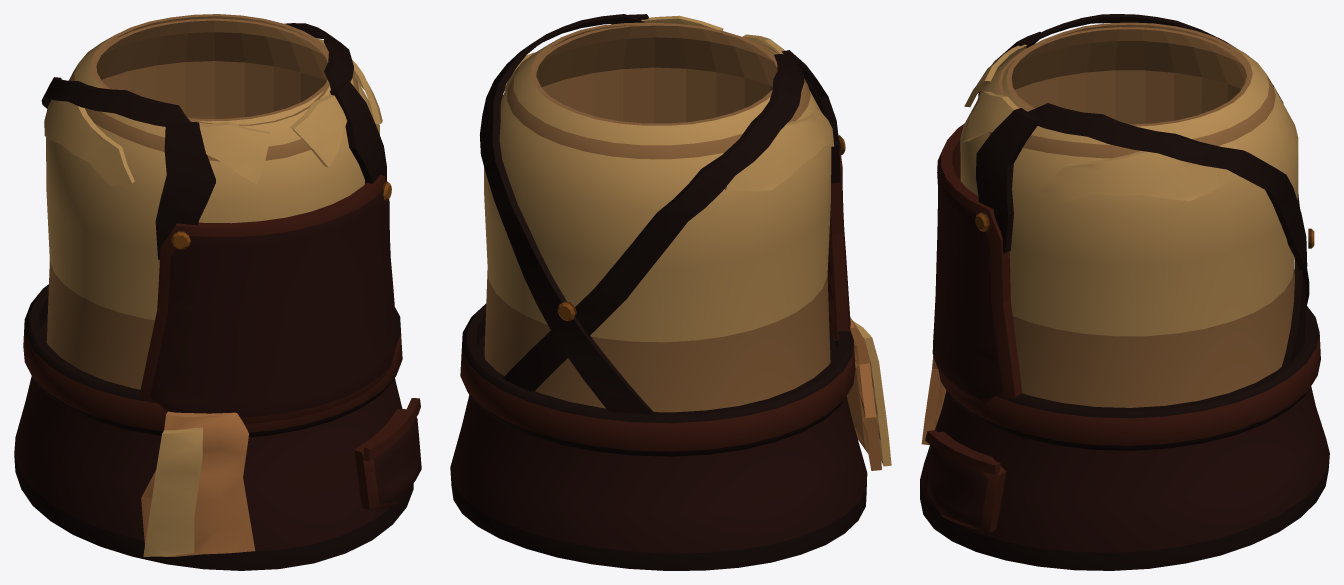
File: BarkeepApron.fbx
The picture shows the model from 3 angles, left to right: view 1: azimuth 30°, elevation 25°; view 2: azimuth 150°, elevation 25°; view 3: azimuth 270°, elevation 25°; orthographic projection. The views are drawn at different scales.
Visible parts, largest first — view 1: ApronAndShirt; view 2: ApronAndShirt; view 3: ApronAndShirt.
Boxes of the visible parts, x1,y1,x2,y2 form: ApronAndShirt: (14, 14, 421, 570); ApronAndShirt: (450, 14, 891, 570); ApronAndShirt: (920, 14, 1329, 570).
Bounding box in the file's own units: 0.337 × 0.4022 × 0.3441.
2 materials, 2 textured.
